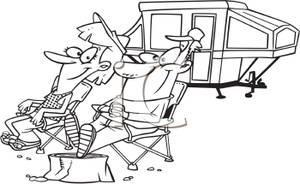chair: (93, 79, 188, 169), (17, 74, 95, 154)
person: (1, 12, 133, 153), (64, 29, 203, 156)
